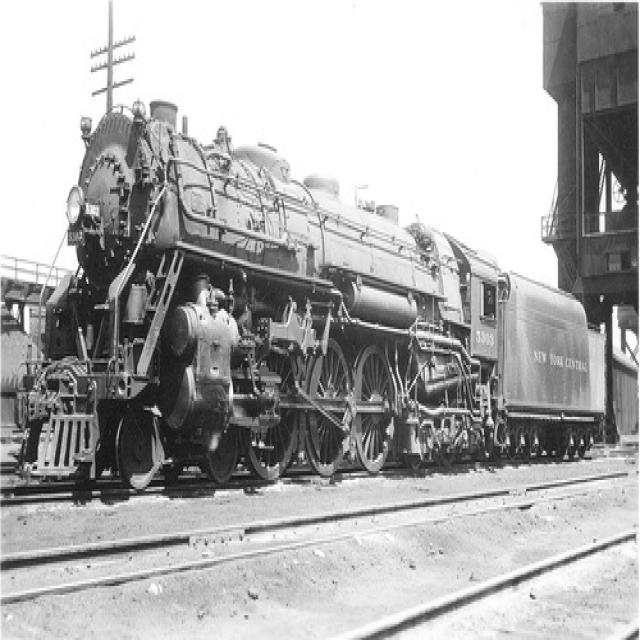train: (13, 88, 612, 478)
